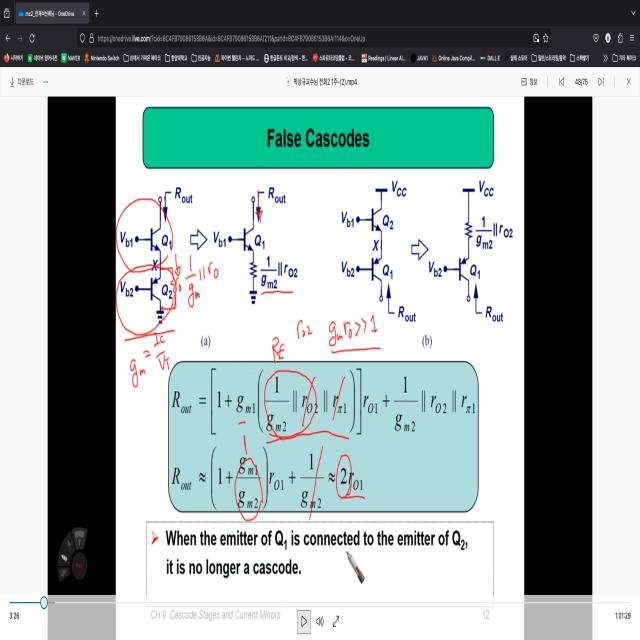panseo: (263, 308, 391, 366), (172, 241, 227, 317), (123, 326, 180, 394)
